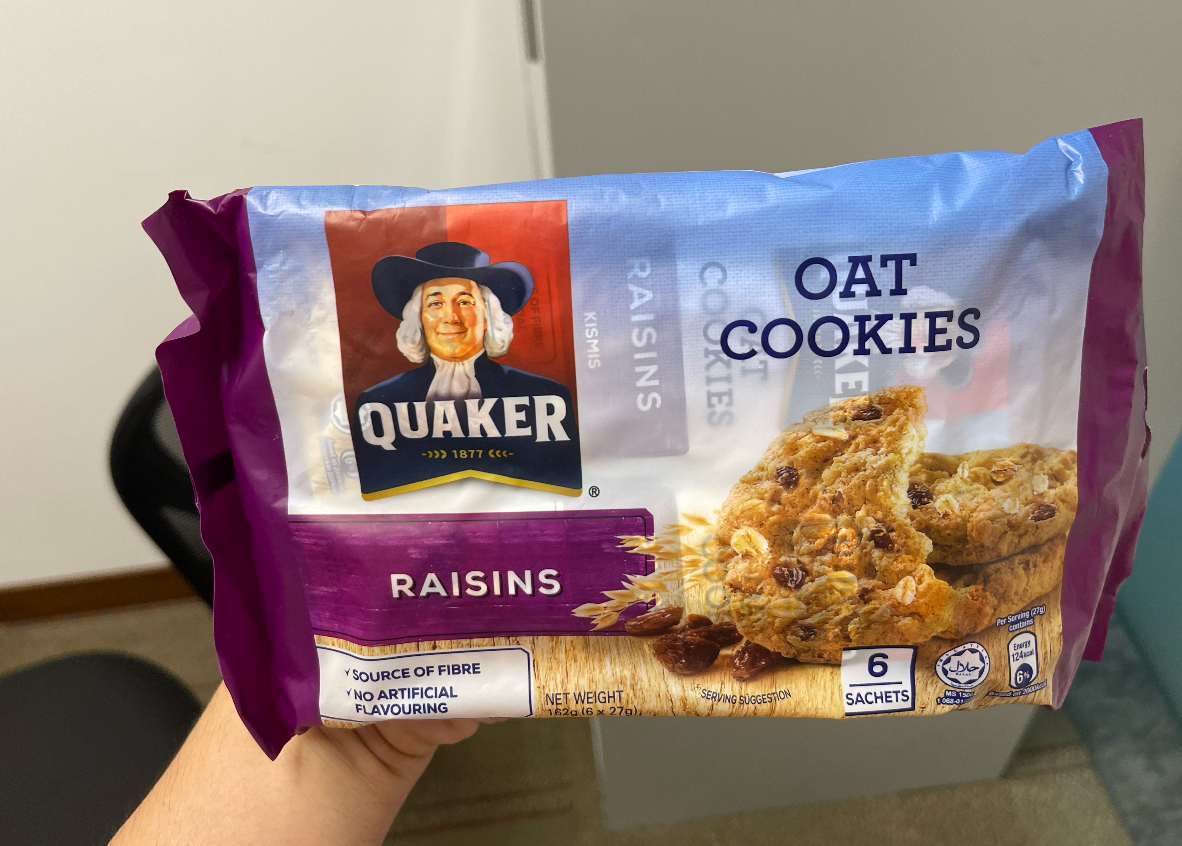cookies_100g-199g: (268, 197, 1080, 714)
